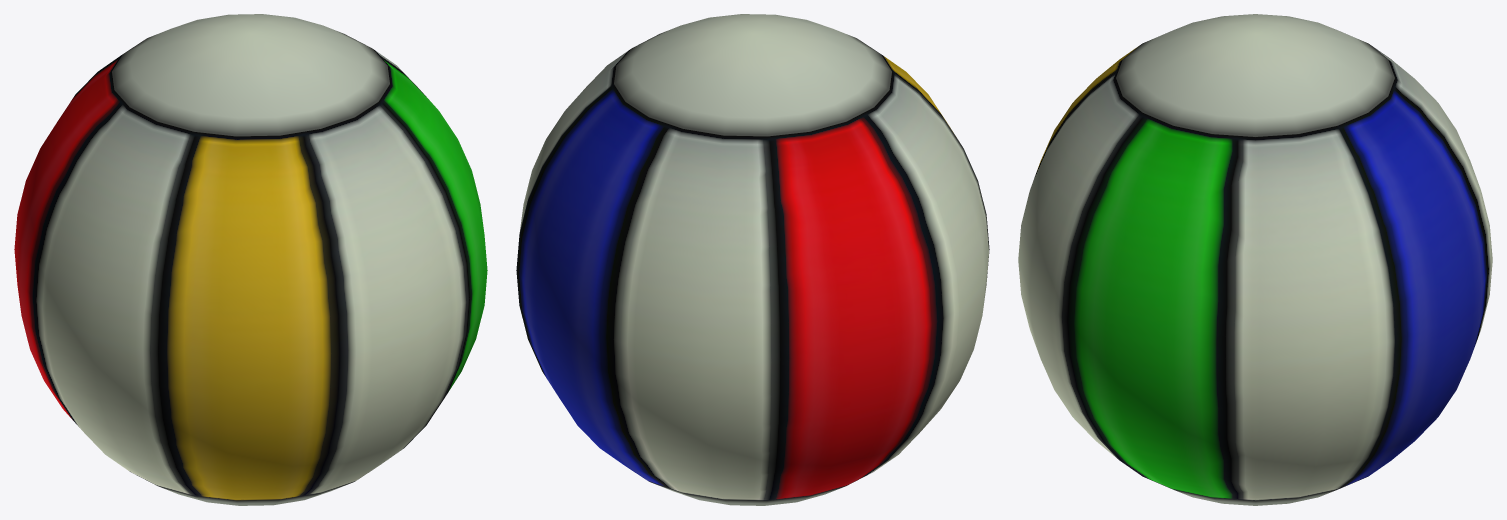
The model's file is ball.fbx.
3 views of the same model, side by side, from view 1: azimuth 30°, elevation 25°; view 2: azimuth 150°, elevation 25°; view 3: azimuth 270°, elevation 25° (orthographic).
Visible parts, largest first — view 1: ball; view 2: ball; view 3: ball.
Part boxes in pixels (box(x1,y1,x2,y2)): ball: box(14, 14, 487, 505); ball: box(516, 14, 989, 505); ball: box(1018, 14, 1492, 505).
Bounding box in the file's own units: 7.24 × 7.6 × 7.23.
Materials: 1 (1 with a texture image).
